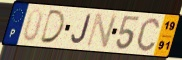0: (22, 7, 44, 43)
5: (115, 15, 141, 51)
C: (135, 16, 162, 53)
D: (38, 9, 67, 45)
J: (70, 14, 92, 46)
N: (84, 12, 119, 49)
